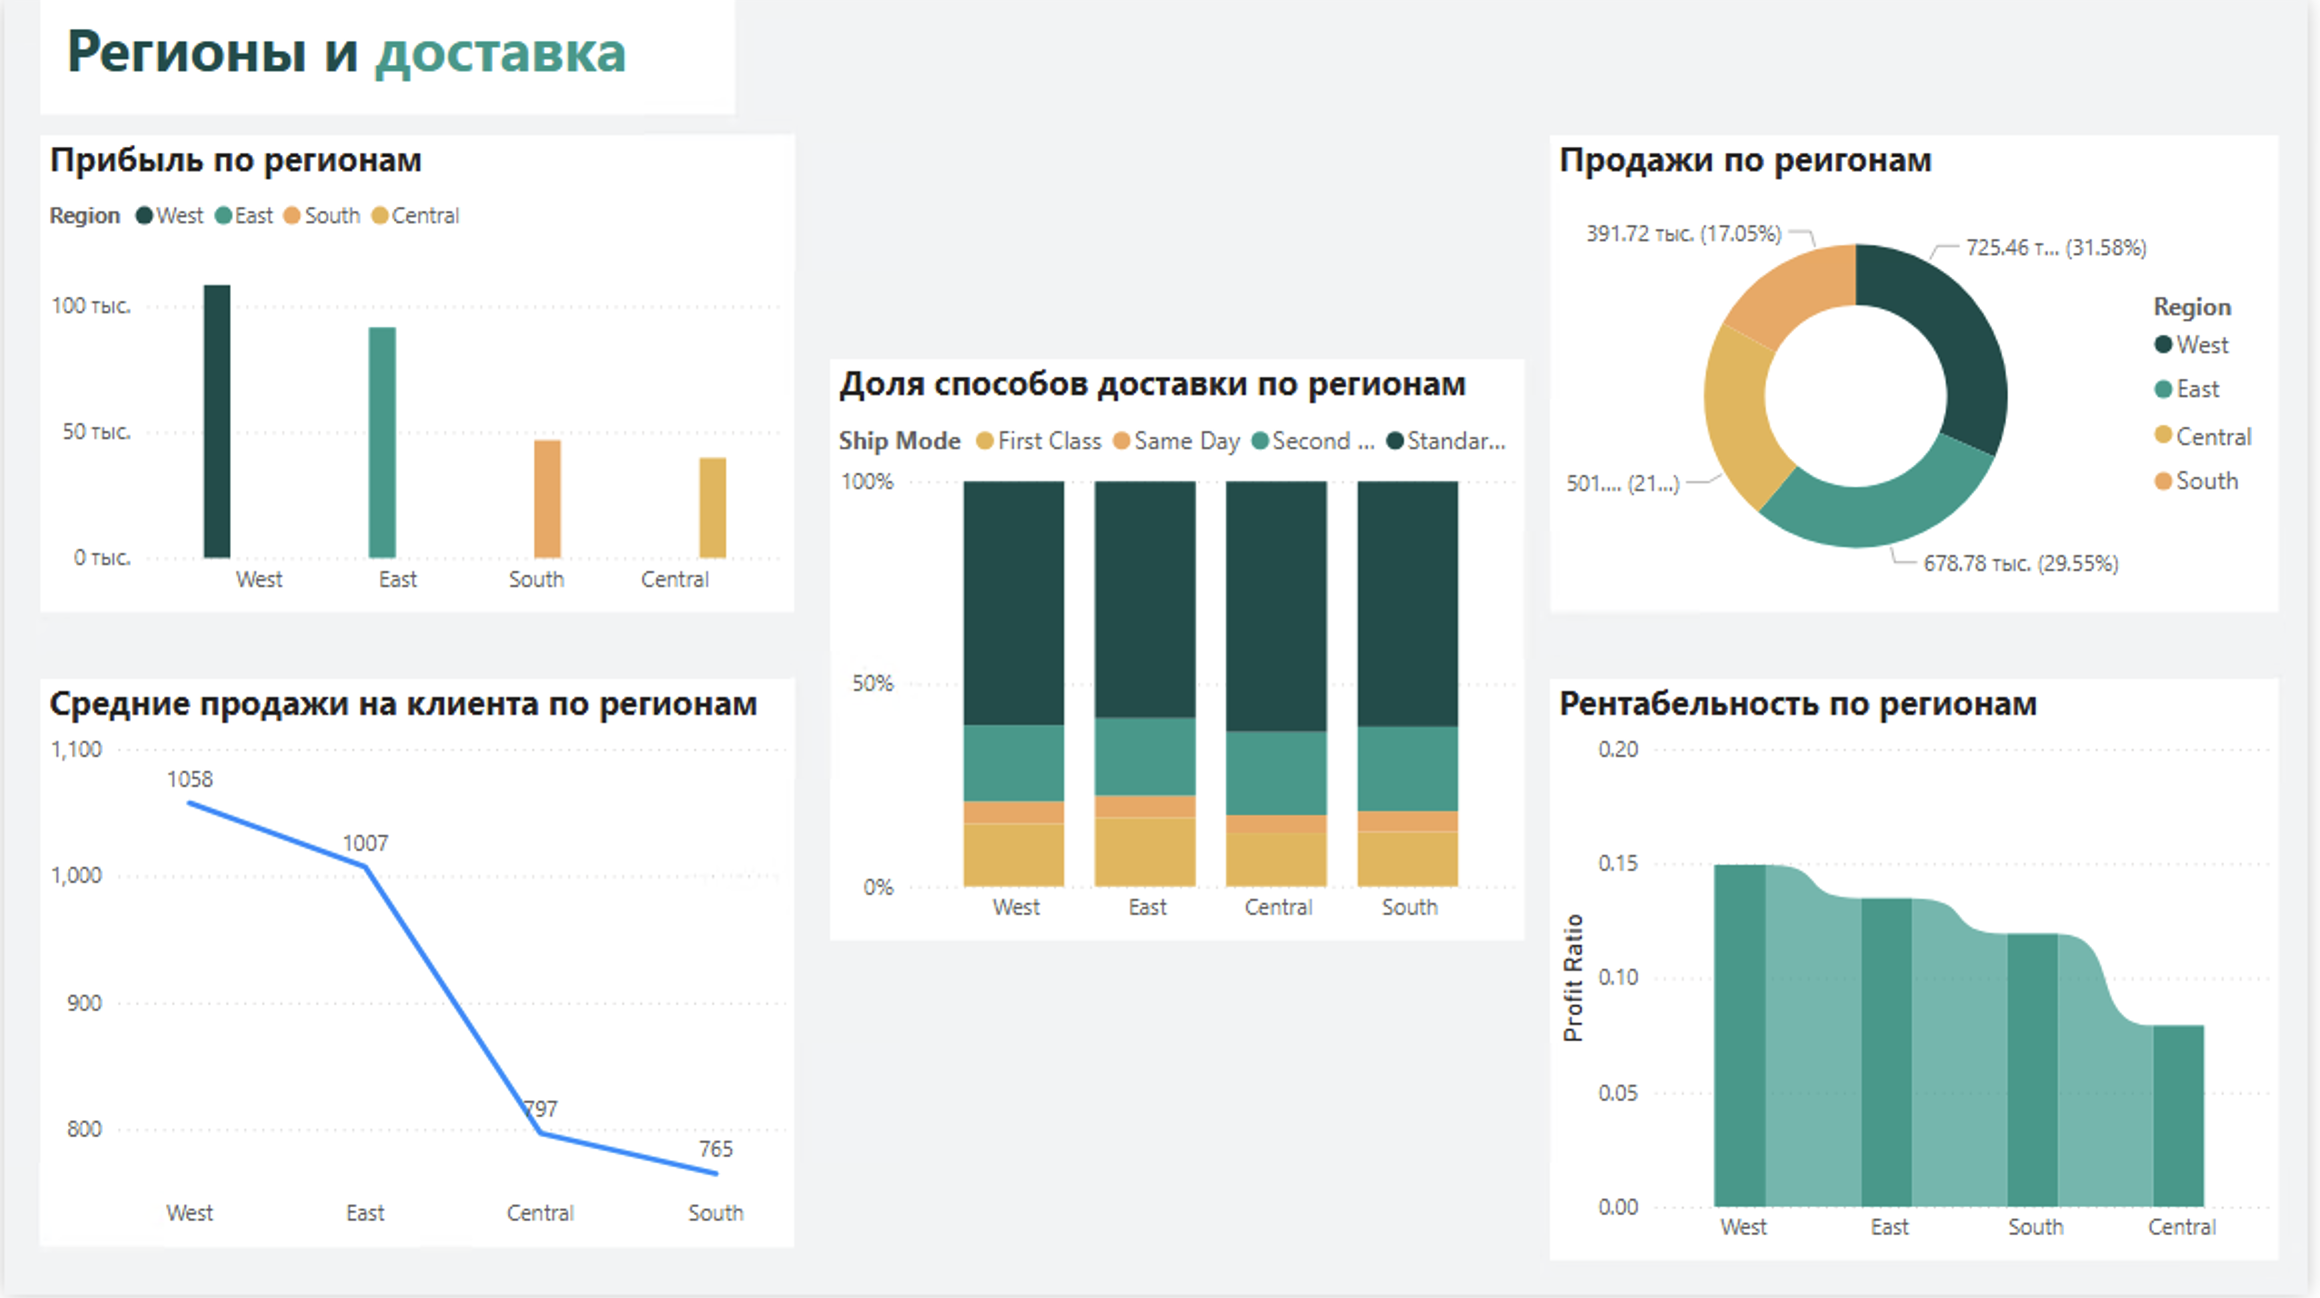

The dashboard page shown, as its layout file describes it:
{"tool":"powerbi","page":{"name":"Регионы и доставка","canvas":[1280,720],"ordinal":4},"visuals":[{"type":"clusteredColumnChart","title":"Прибыль по регионам","fields":{"Category":["Orders.Region"],"Y":["Orders.ОбщСумПрибыль"],"Series":["Orders.Region"]},"box":[19.5,75.3,419.5,264.9],"z":0},{"type":"donutChart","title":"Продажи по реигонам","fields":{"Category":["Orders.Region"],"Y":["Orders.ОбщсуммПродаж"]},"box":[858.4,75.3,405.2,264.9],"z":1000},{"type":"lineChart","title":"Средние продажи на клиента по регионам","fields":{"Category":["Orders.Region"],"Y":["Orders.Sales per customer"]},"box":[19.5,377.9,419.5,315.6],"z":2000},{"type":"ribbonChart","title":"Рентабельность по регионам","fields":{"Category":["Orders.Region"],"Y":["Orders.Profit Ratio"]},"box":[858.4,377.9,405.2,323.4],"z":3000},{"type":"hundredPercentStackedColumnChart","title":"Доля способов доставки по регионам","fields":{"Category":["Orders.Region"],"Y":["Orders.SUM of Quantity"],"Series":["Orders.Ship Mode"]},"box":[458.4,200,385.7,323.4],"z":4000},{"type":"textbox","box":[19.5,0,385.7,63.6],"z":4001}]}

Visuals, with their boxes in screenshot pixels (x1, y1, x2, y2), scaled from the page's 1280x720 canvas onto the 2320x1298 screenshot:
"Прибыль по регионам" clusteredColumnChart: 35/136/796/613
"Продажи по реигонам" donutChart: 1556/136/2290/613
"Средние продажи на клиента по регионам" lineChart: 35/681/796/1250
"Рентабельность по регионам" ribbonChart: 1556/681/2290/1264
"Доля способов доставки по регионам" hundredPercentStackedColumnChart: 831/361/1530/944
textbox: 35/0/734/115
